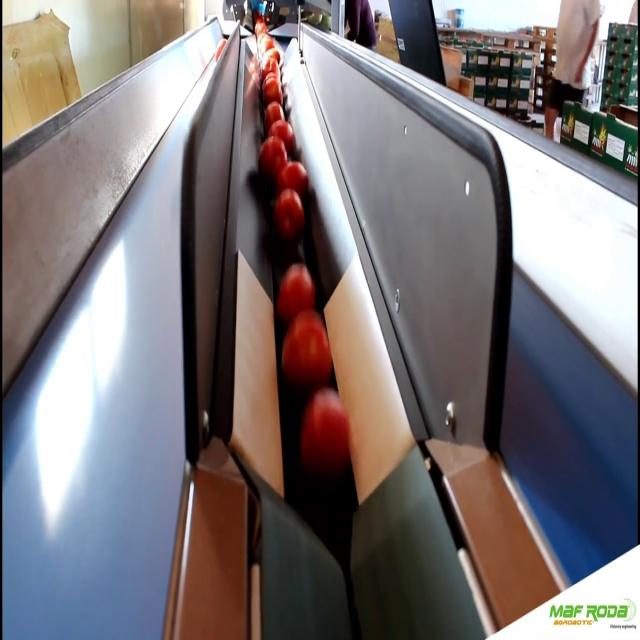Tomato: (304, 394, 354, 482), (284, 308, 336, 386), (280, 260, 314, 314), (274, 189, 308, 242), (278, 169, 308, 204), (259, 138, 286, 172), (261, 76, 284, 105), (267, 122, 294, 138), (261, 53, 281, 74), (264, 106, 284, 123), (214, 38, 226, 62)
